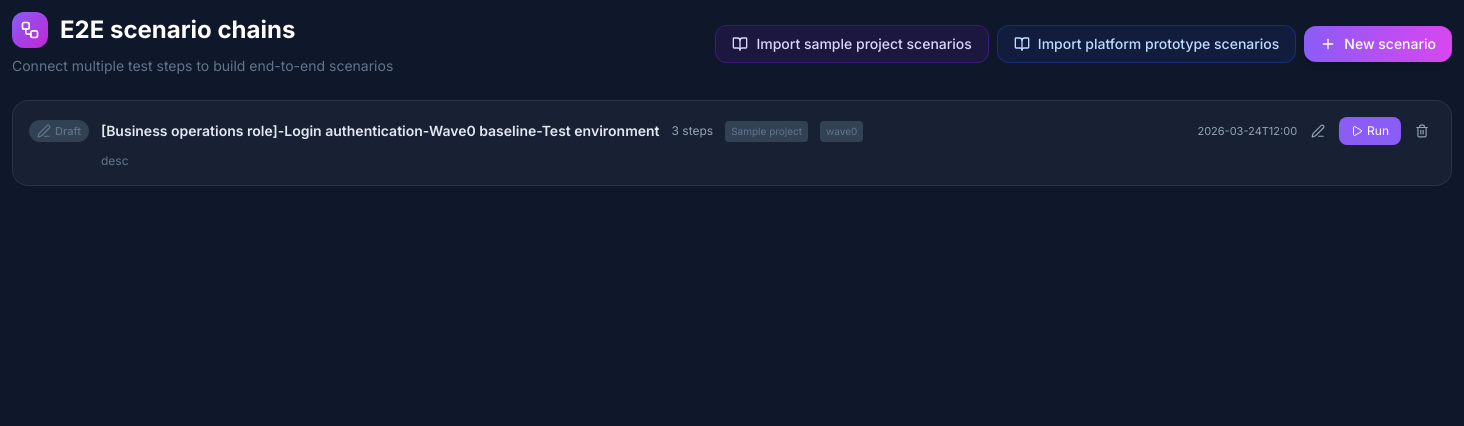
Scenario: ScenarioPage › should import sample_platform playbook scenarios
Click the button "Import sample project scenarios" at (852, 44), box x1=715 y1=25 x2=989 y2=63
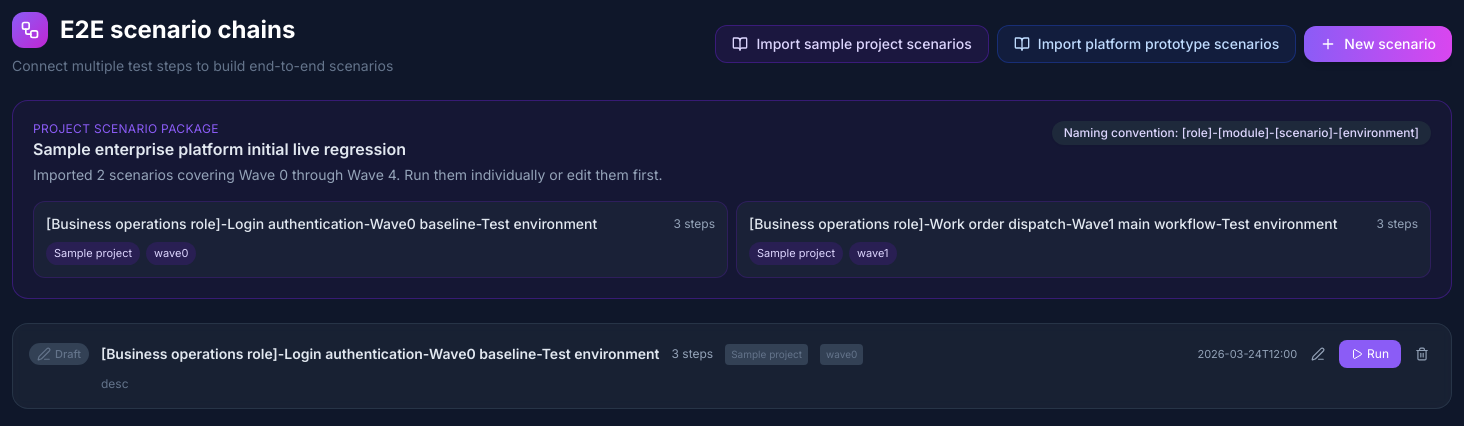
Now the heading "Sample enterprise platform initial live regression" is shown, box x1=33 y1=139 x2=406 y2=159
Now the text "Imported 2 scenarios covering Wave 0 through Wave 4. Run them individually or edit them first." is shown, box x1=33 y1=166 x2=663 y2=183
Now the text "[Business operations role]-Work order dispatch-Wave1 main workflow-Test environment" is shown, box x1=749 y1=215 x2=1338 y2=232
